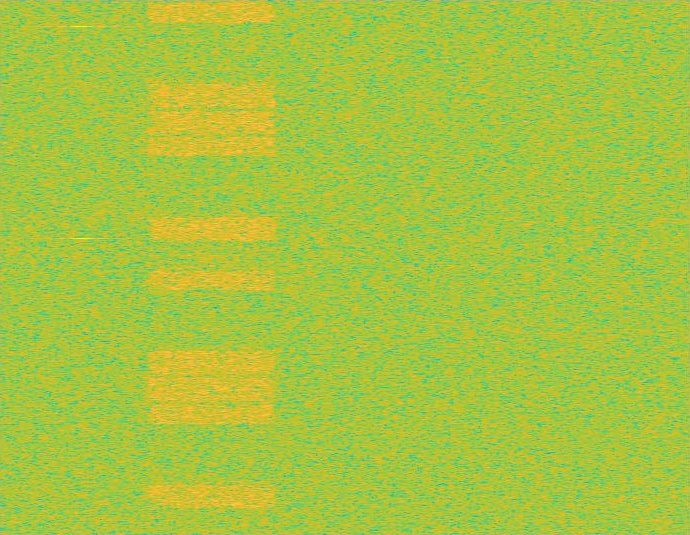LTE: (143, 0, 281, 534)
Radar: (75, 0, 89, 534)
